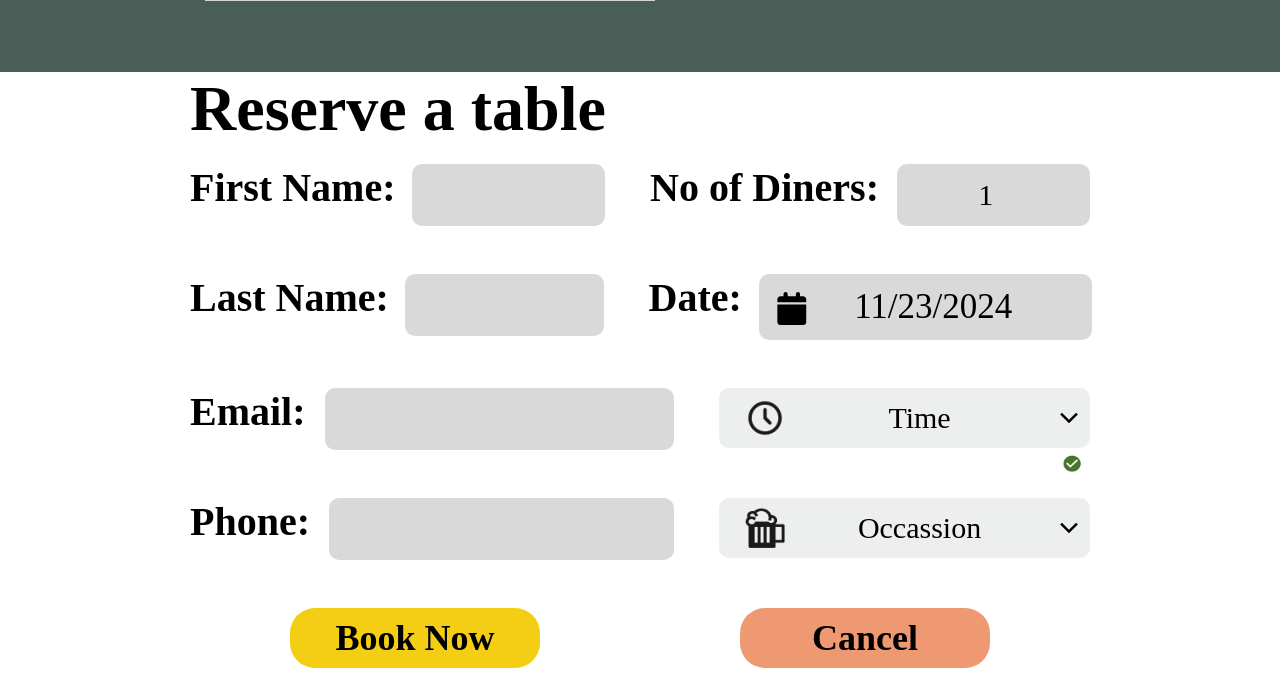
Time validation › Time required
(page scrolled)
Click the button with aria-label "On Click form submit to complete booking".
click(415, 638)  # box [290,608,540,668]
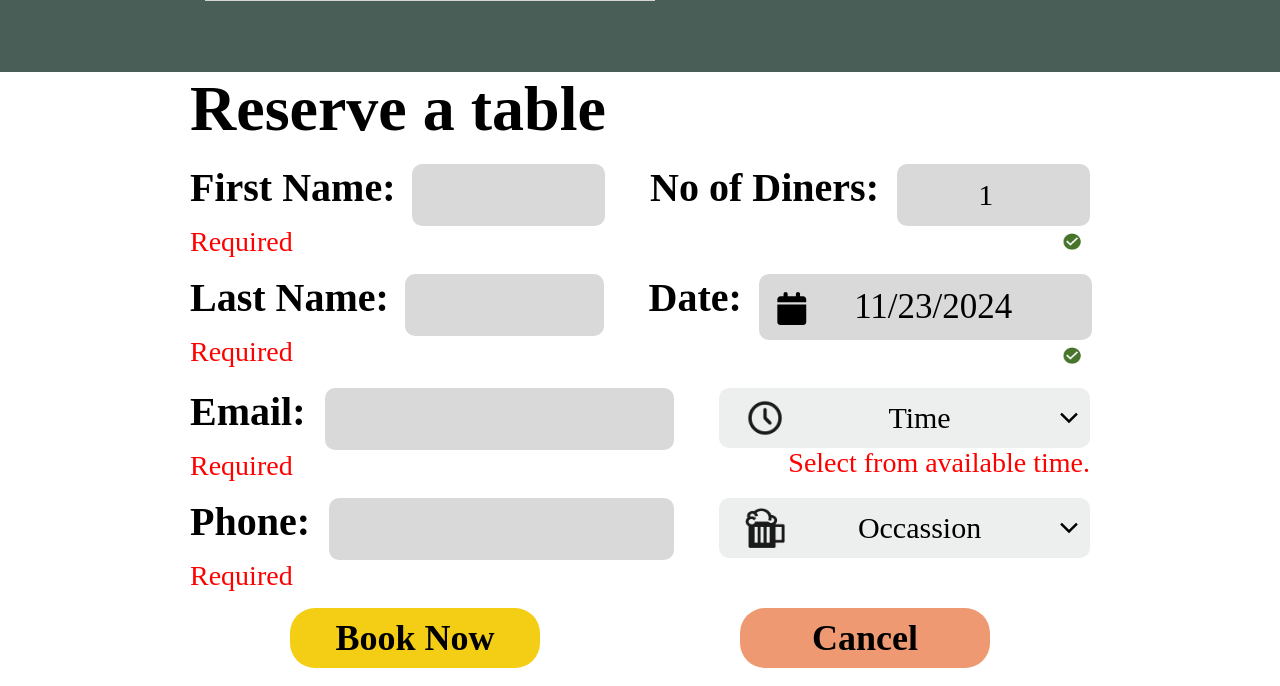
Now the text "Select from available time." is shown, box [788,448,1090,478]
